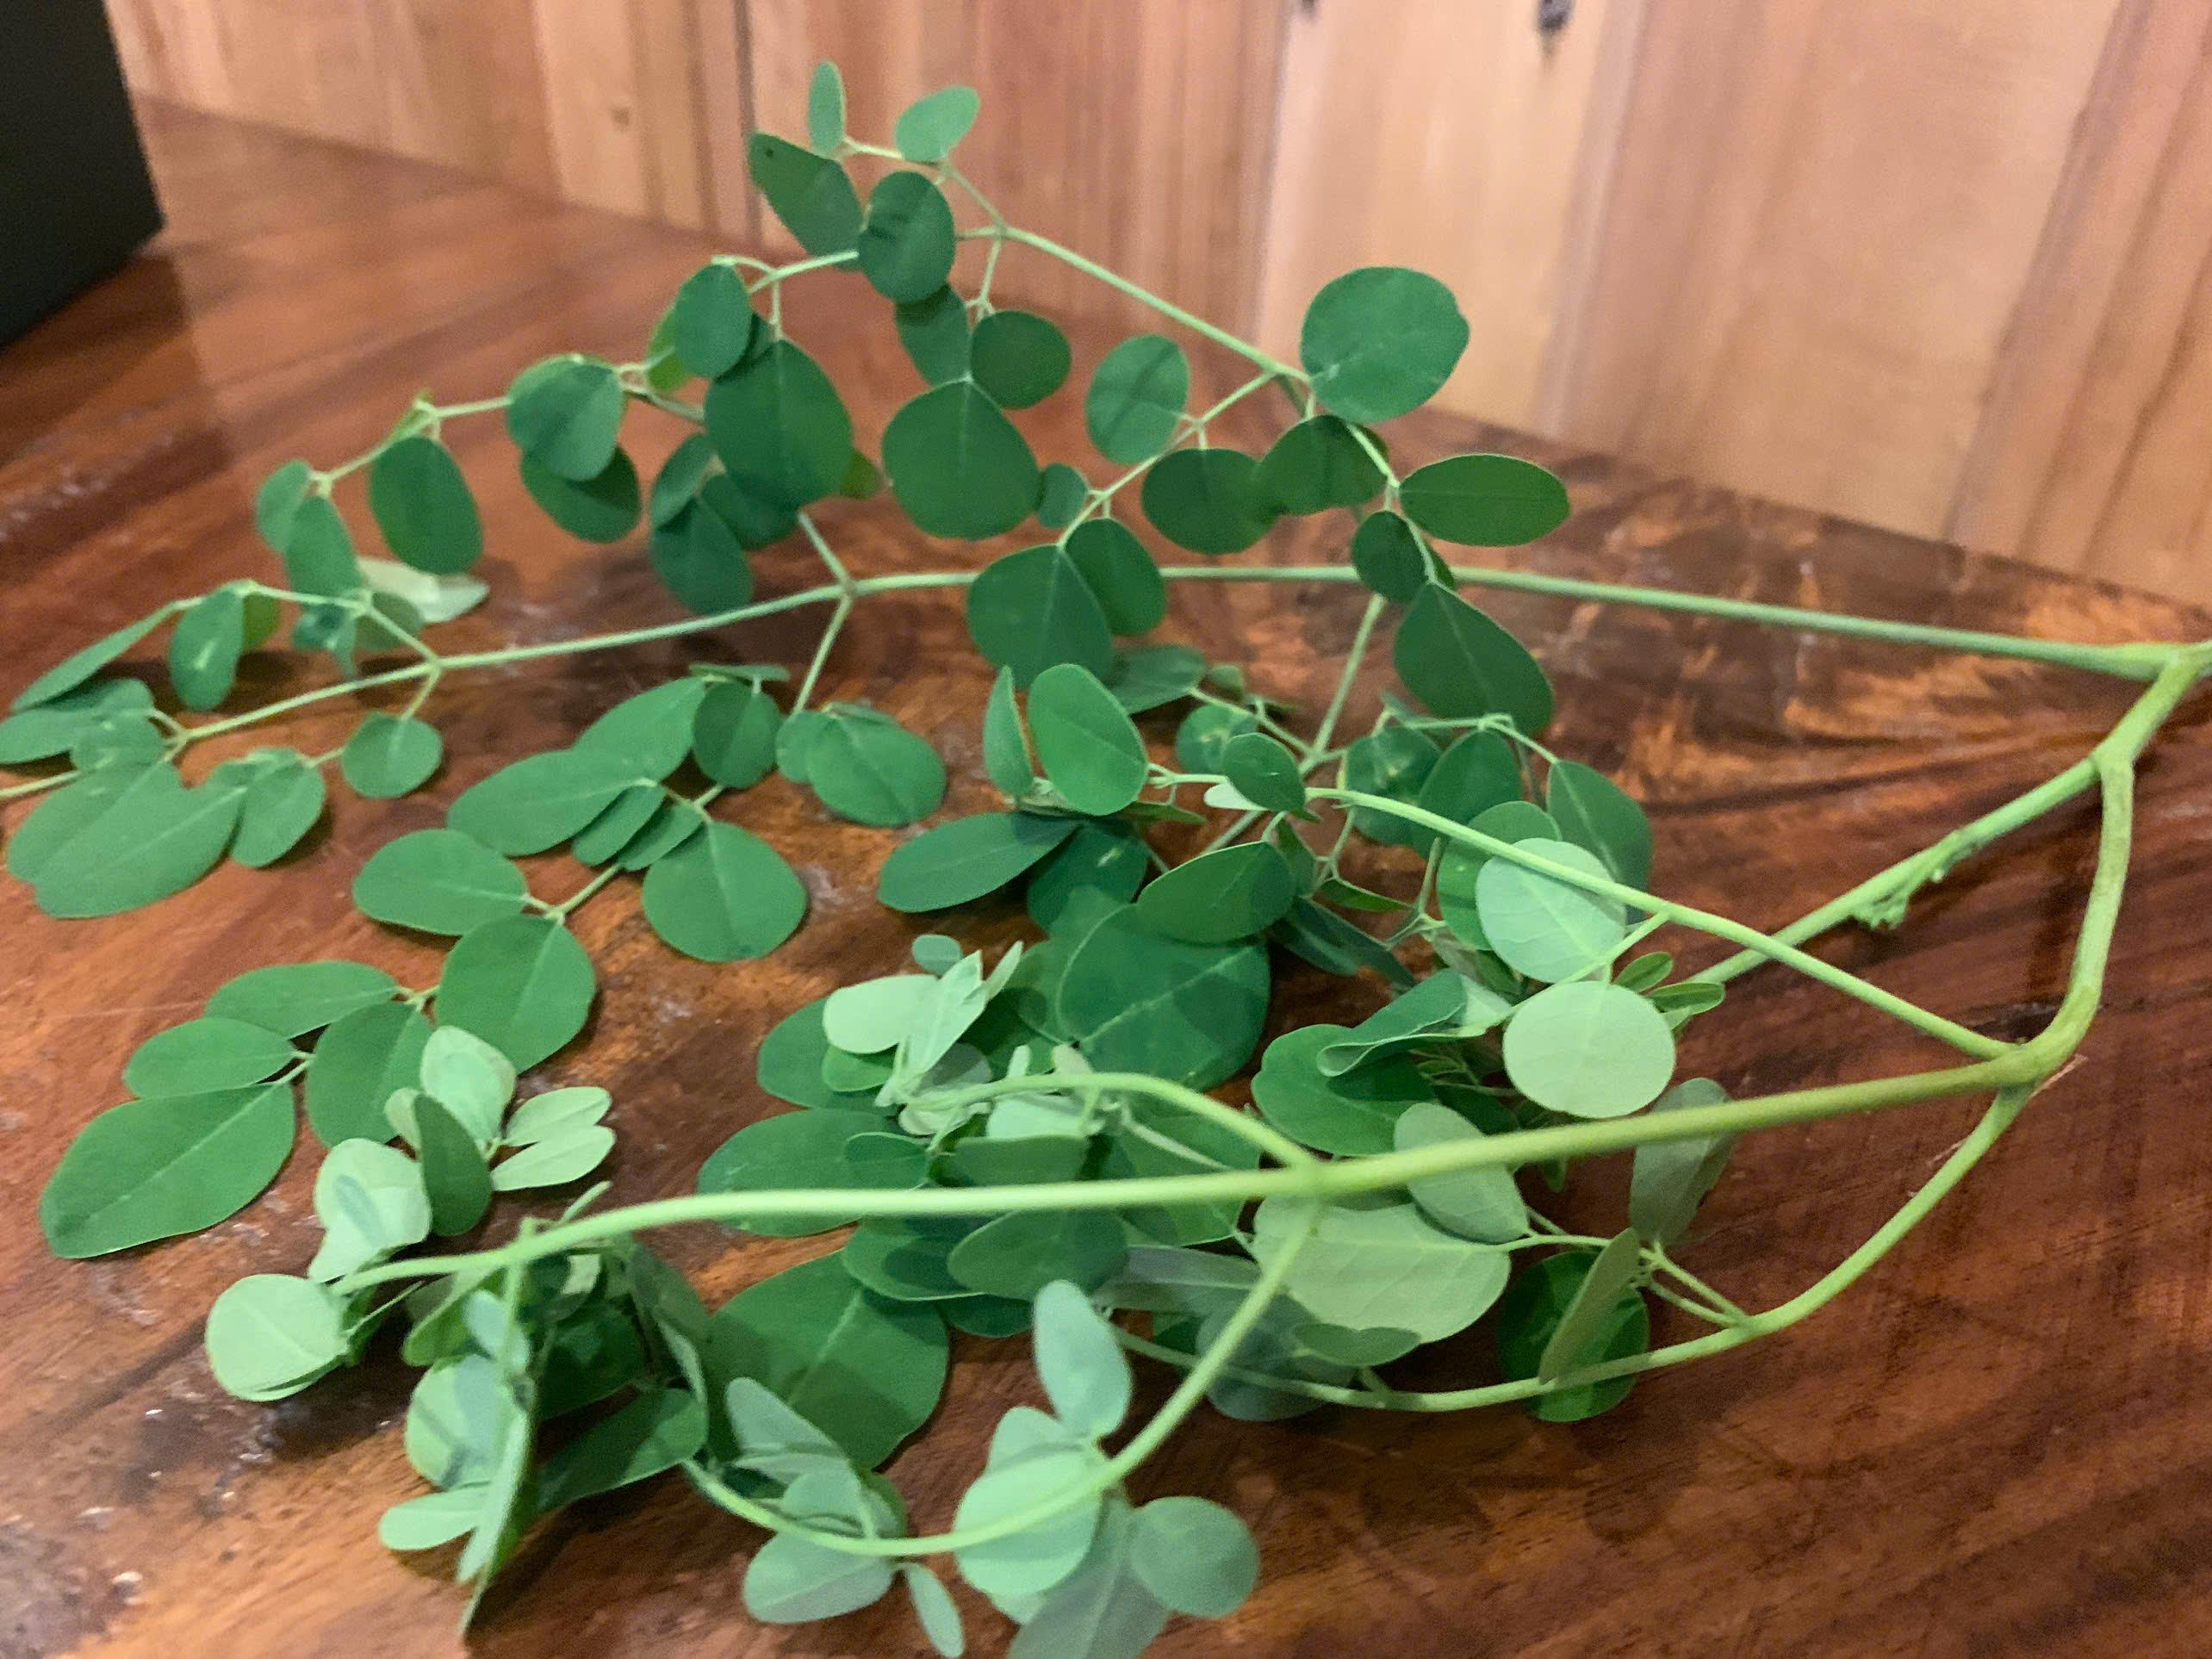Huu co: (75, 105, 2003, 1547)
